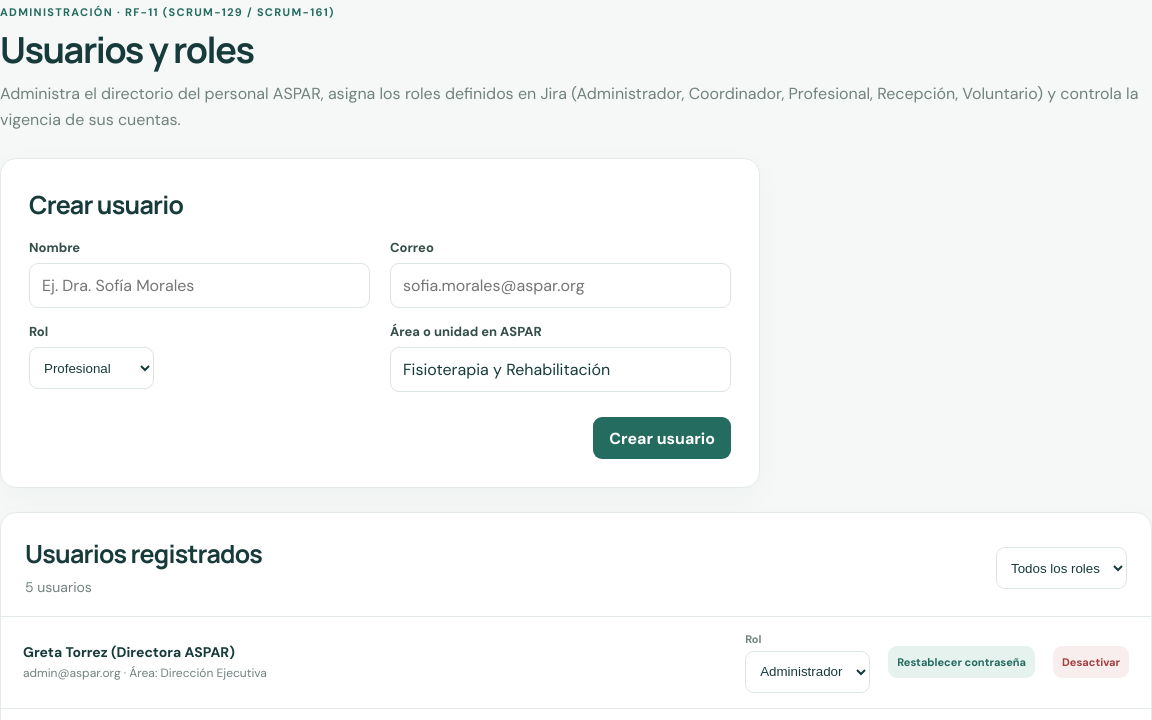
Test: SCRUM-161: UsersView — gestión de usuarios y roles › crea un usuario con el rol elegido
The image size is (1152, 720).
In the field with id "user-name": (200, 286) 29,264 -> 370,308, type "Dr. Roberto Siles"
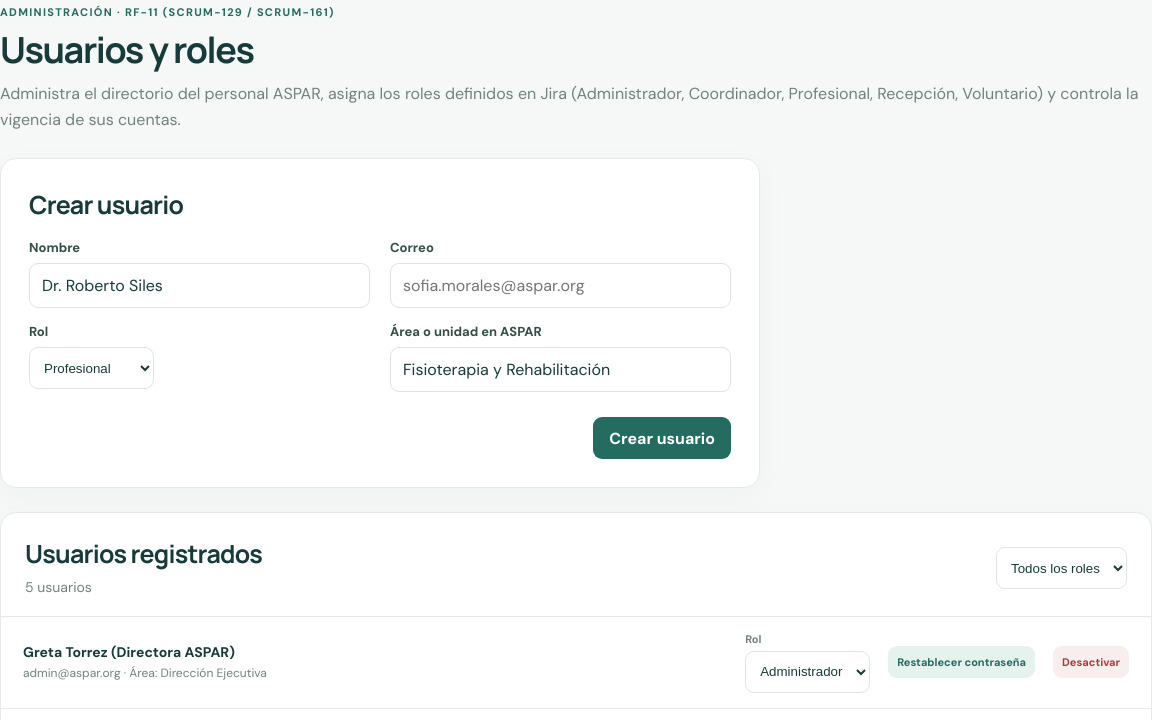
In the field with id "user-email": (560, 286) 390,264 -> 731,308, type "roberto.siles@aspar.org"
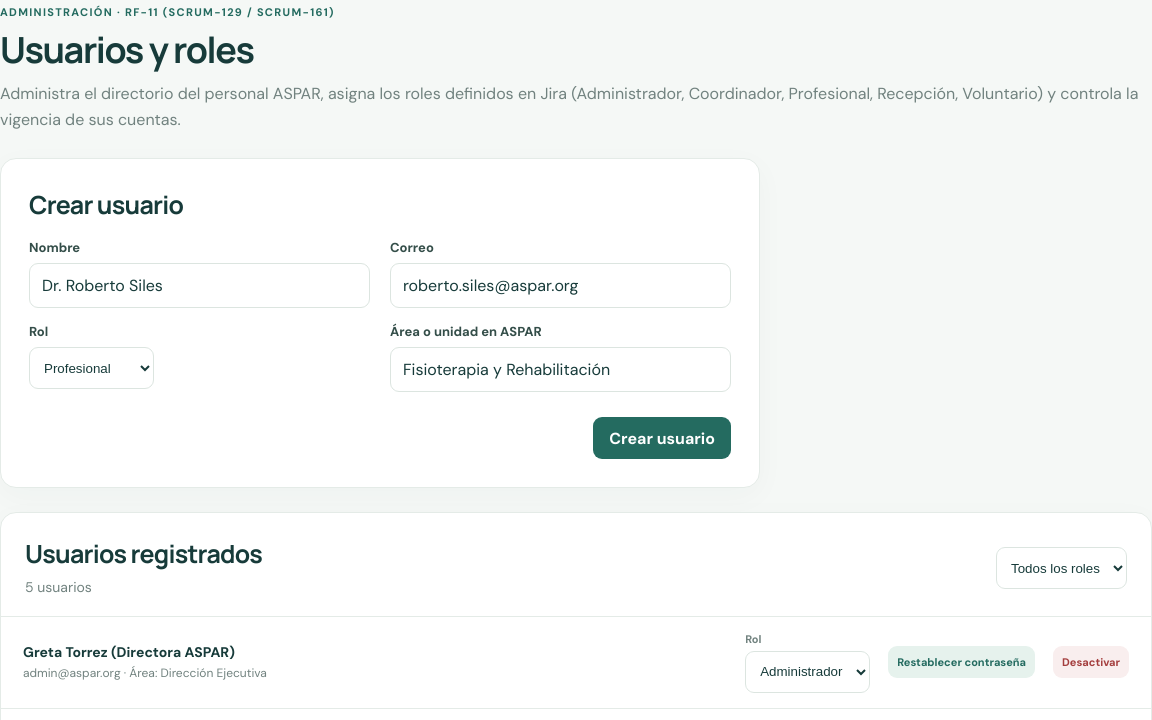
Select "Coordinador" in the dropdown with id "user-role": (92, 368) 29,348 -> 154,390
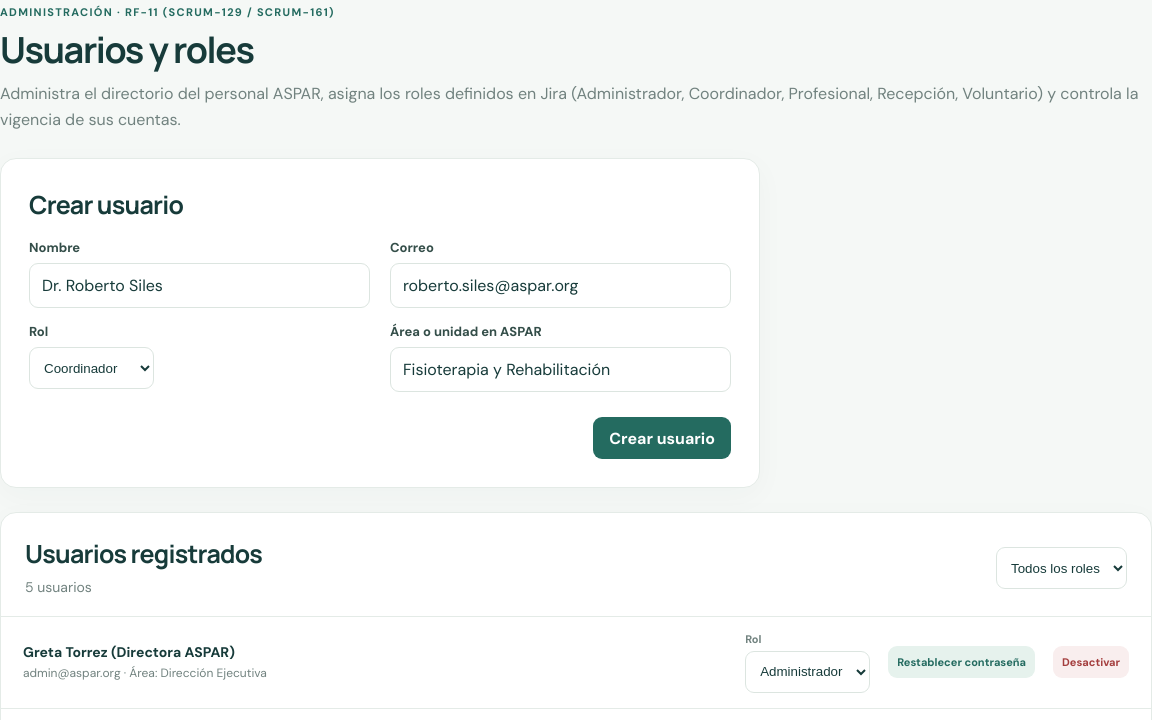
Submit the form, box 0,158 -> 760,488
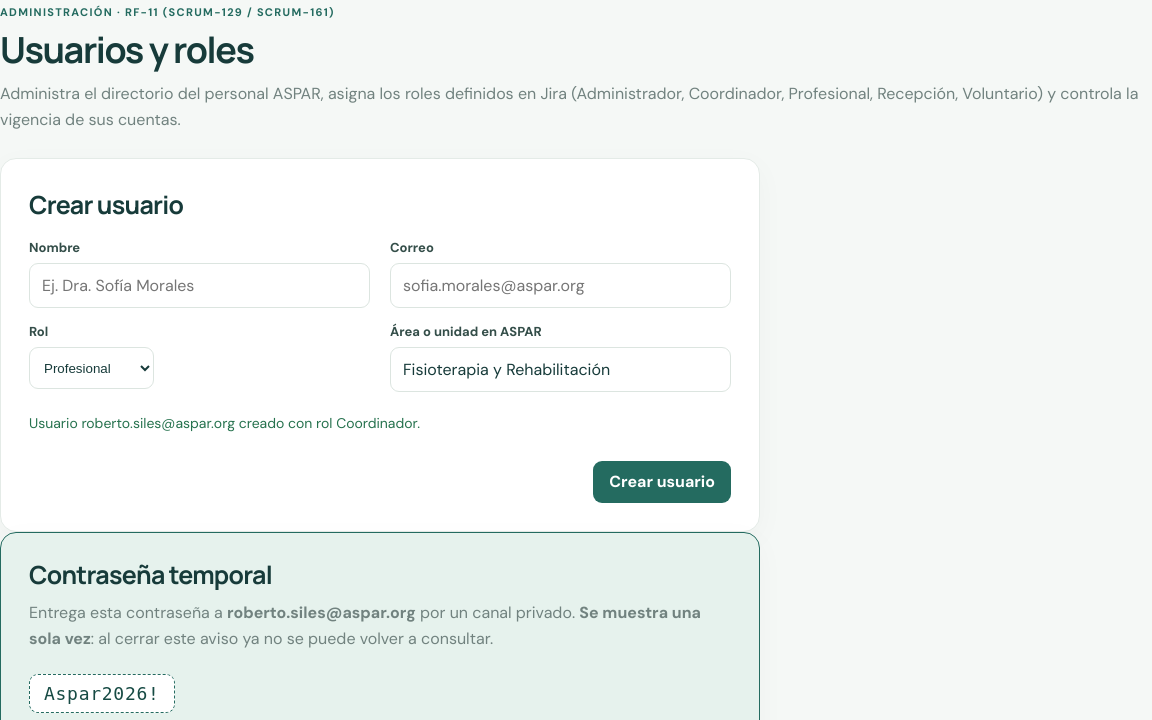
Expected: the message with class "success-message" shows "Coordinador", 29,414 -> 420,432
